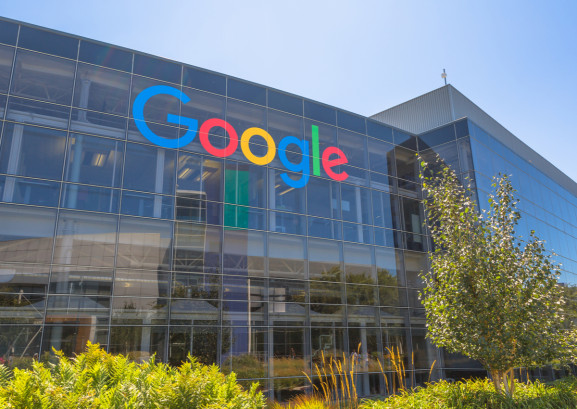google: (131, 75, 360, 196)
